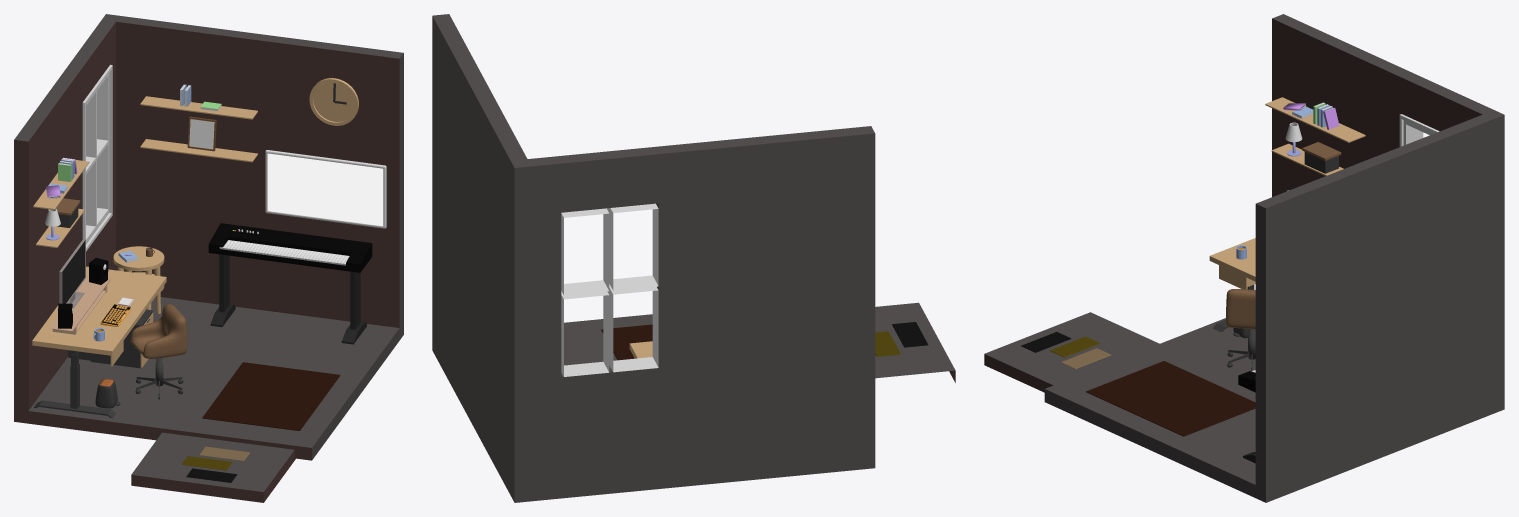
Rendered from NewNewV2.glb.
The picture shows the model from 3 angles, left to right: view 1: azimuth 30°, elevation 25°; view 2: azimuth 150°, elevation 25°; view 3: azimuth 270°, elevation 25°; orthographic projection. The views are drawn at different scales.
Parts seen in each view (by area): view 1: Body, Floor Items, TV, Desks, Mini Floor, Shelves, Piano, Chair, Table Stuff, Clock, Plane.043, Plane.014 (+6 smaller); view 2: Body, Mini Floor, Floor Items, FloorThird; view 3: Body, Floor Items, Mini Floor, Shelves, Desks, Chair.
Boxes of the visible parts, x1,y1,x2,y2 form: Body: (14, 14, 403, 460); Floor Items: (90, 309, 340, 430); TV: (265, 150, 386, 228); Desks: (32, 246, 166, 418); Mini Floor: (131, 432, 295, 502); Shelves: (33, 84, 257, 247); Piano: (208, 223, 372, 272); Chair: (130, 304, 187, 358); Table Stuff: (49, 247, 154, 341); Clock: (309, 78, 358, 125); Plane.043: (210, 254, 366, 344); Plane.014: (219, 240, 349, 265); Body: (432, 14, 875, 502); Mini Floor: (875, 302, 955, 382); Floor Items: (601, 324, 652, 360); FloorThird: (892, 322, 928, 347); Body: (1044, 14, 1504, 502); Floor Items: (1086, 328, 1255, 436); Mini Floor: (984, 312, 1159, 392); Shelves: (1265, 97, 1365, 175); Desks: (1209, 238, 1255, 332); Chair: (1226, 289, 1255, 329).
Bounding box in the file's own units: 27.58 × 19.76 × 31.21.
